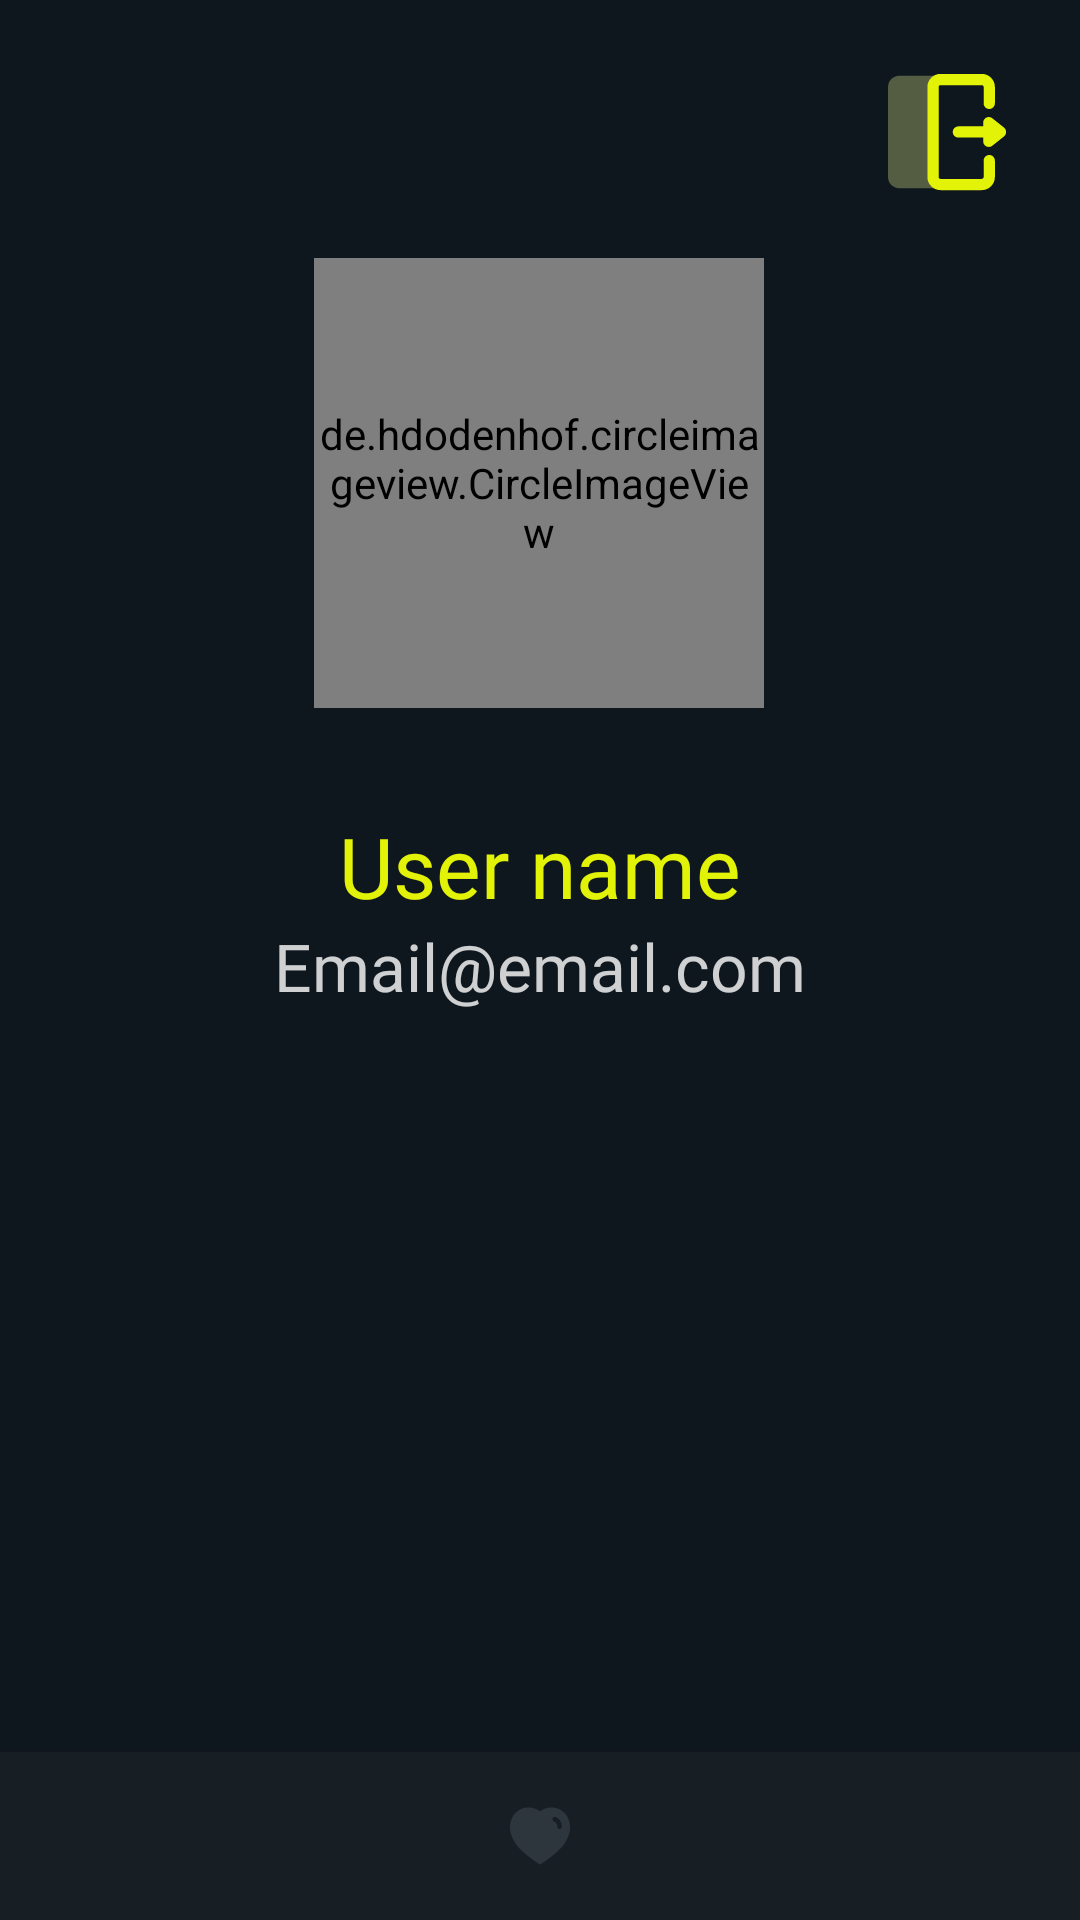

Icons on this 1080w x 1920h Android screen, each with its box as box=[x1, y1, x2, y2]:
signout: box=[888, 74, 1006, 191]
